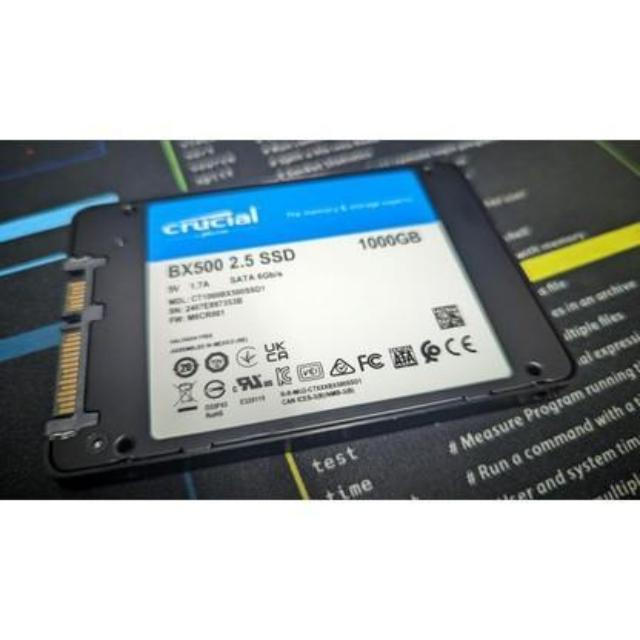DISK: (39, 162, 578, 474)
